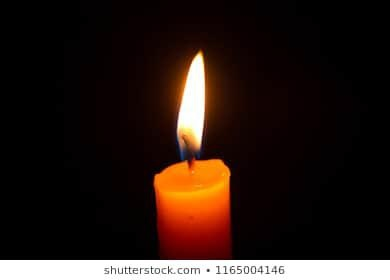fire: (175, 45, 206, 159)
